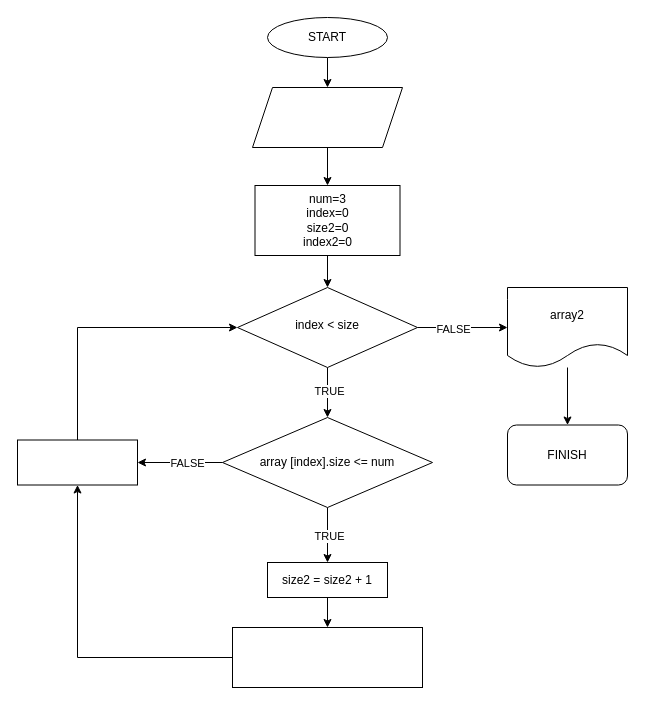
The diagram is 645 pixels wide and 705 high, and some of its shapes have lost their labels. The centre of each missing label's shape, as x and y in pixels:
"array2 [index2] = array [index] index2 = index2 + 1" goes at [327,657].
"index = index + 1" goes at [77,462].
"size array [size]" goes at [327,117].
